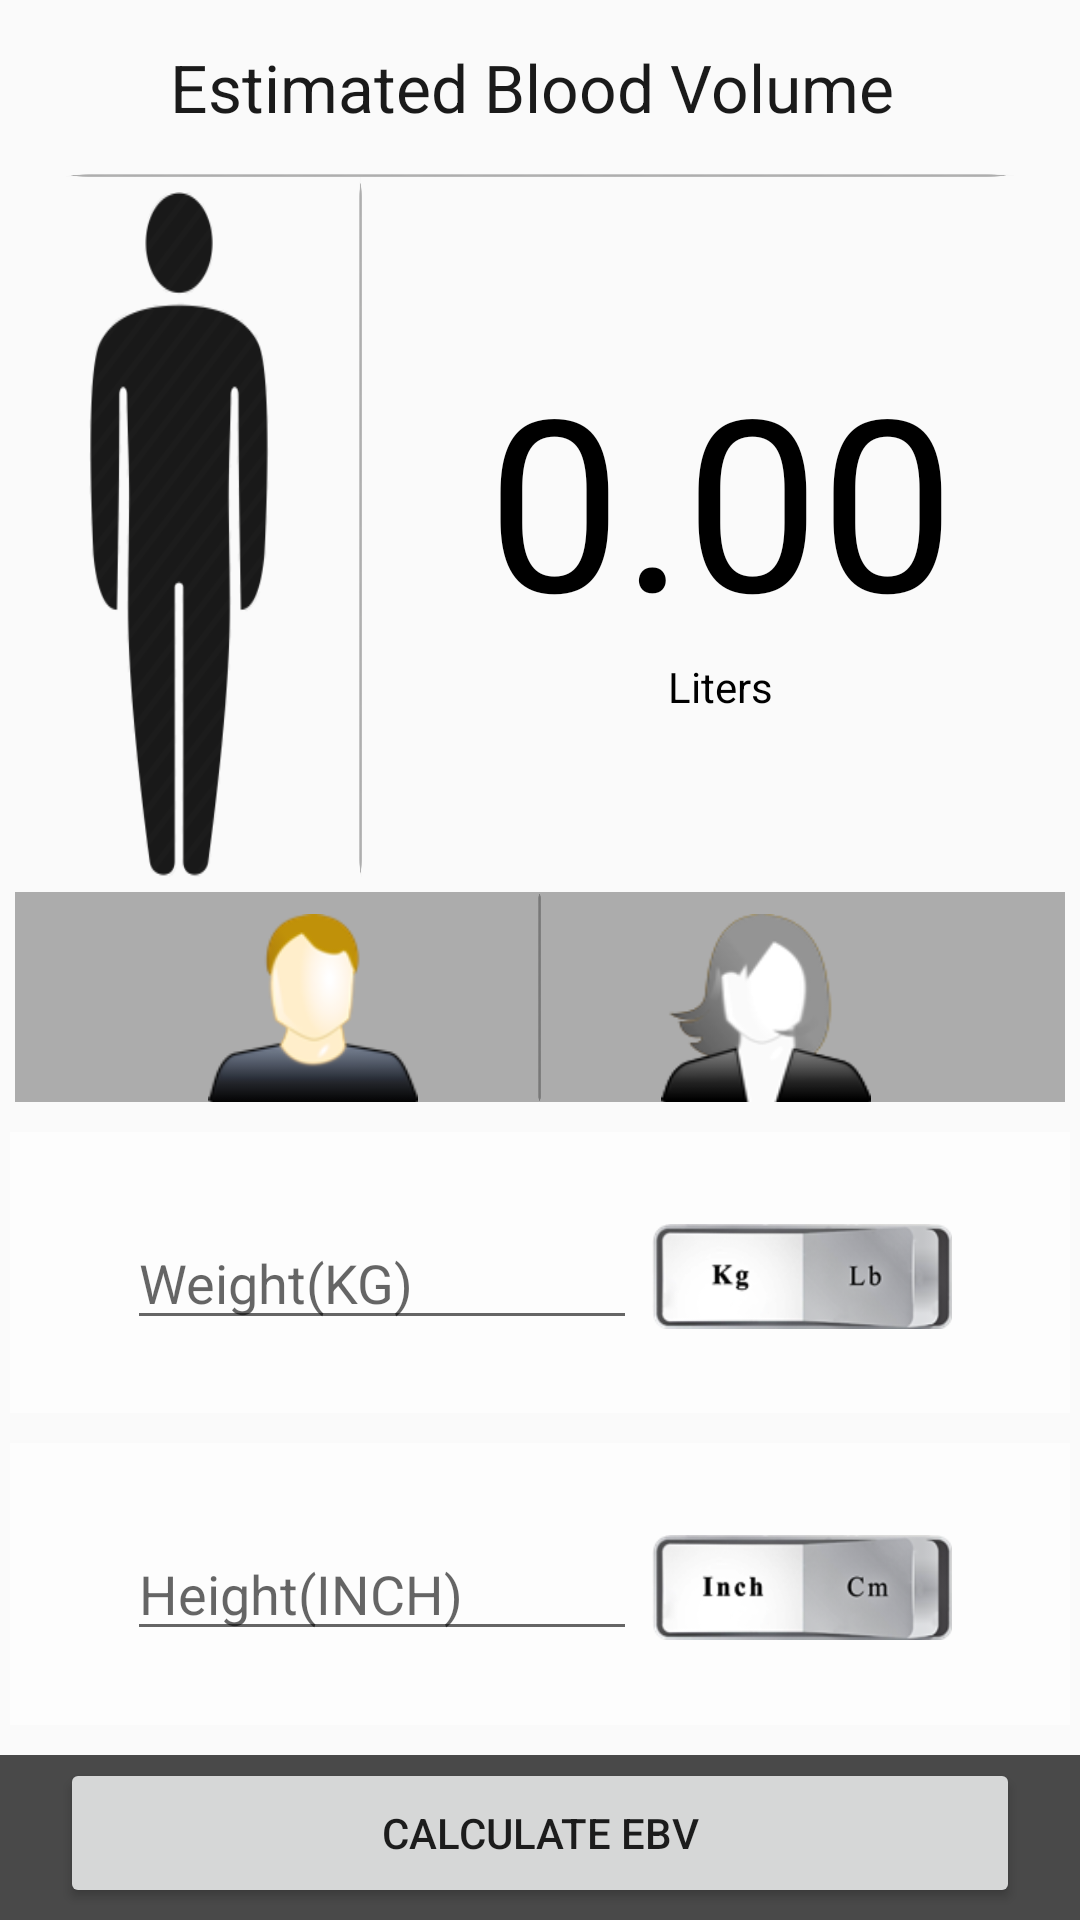

Where to tap for icons on this 1080 x 1920 app screen, as [x,y]:
female: [766,1008]
male select: [313,1008]
